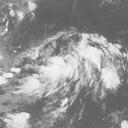cyclone: (28, 33, 110, 99)
